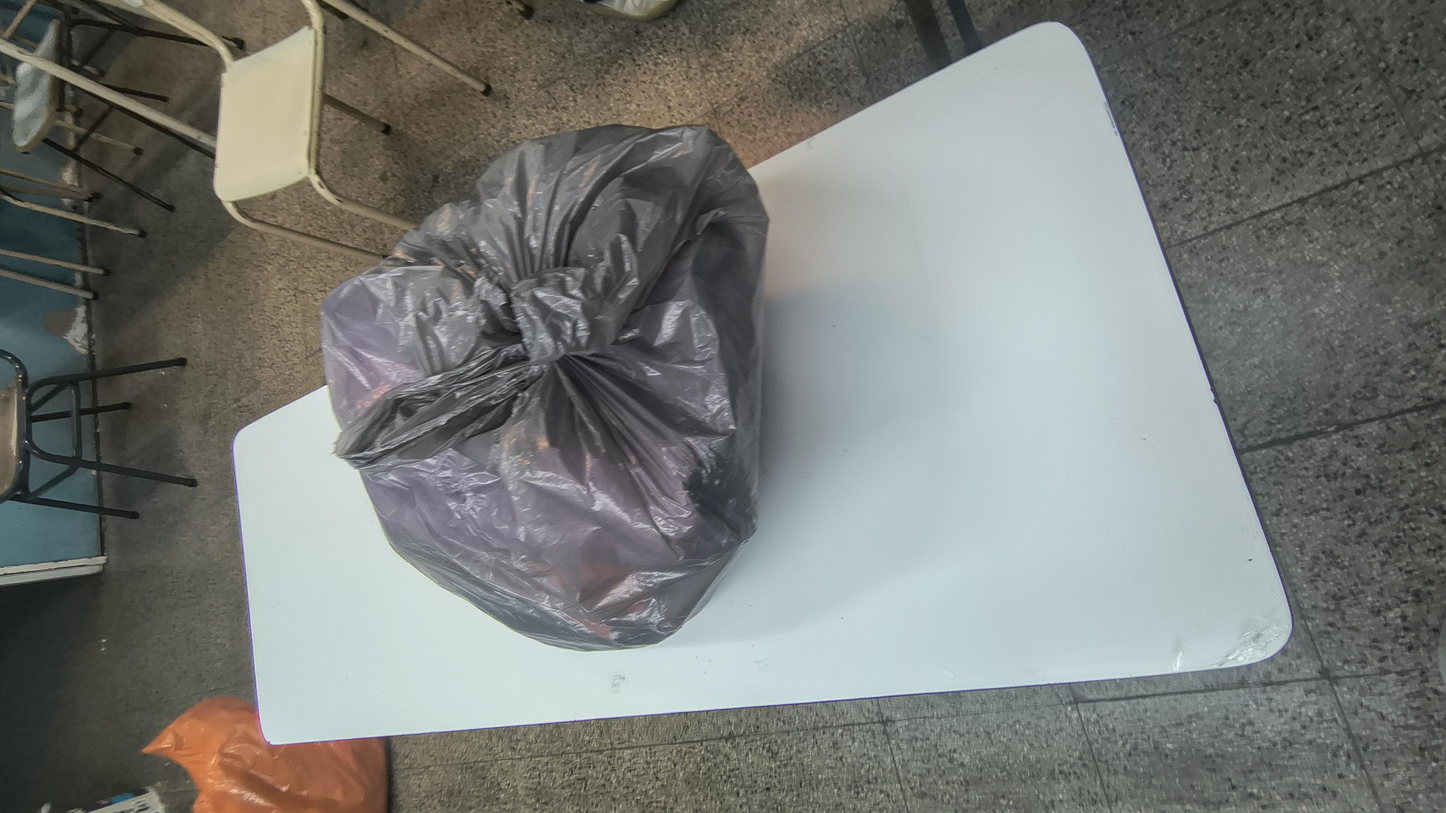Garbage: (266, 147, 1285, 475)
